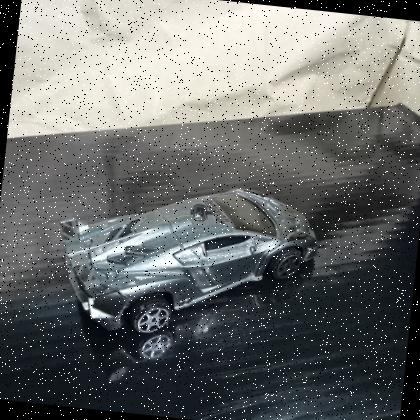Car: (42, 163, 331, 359)
